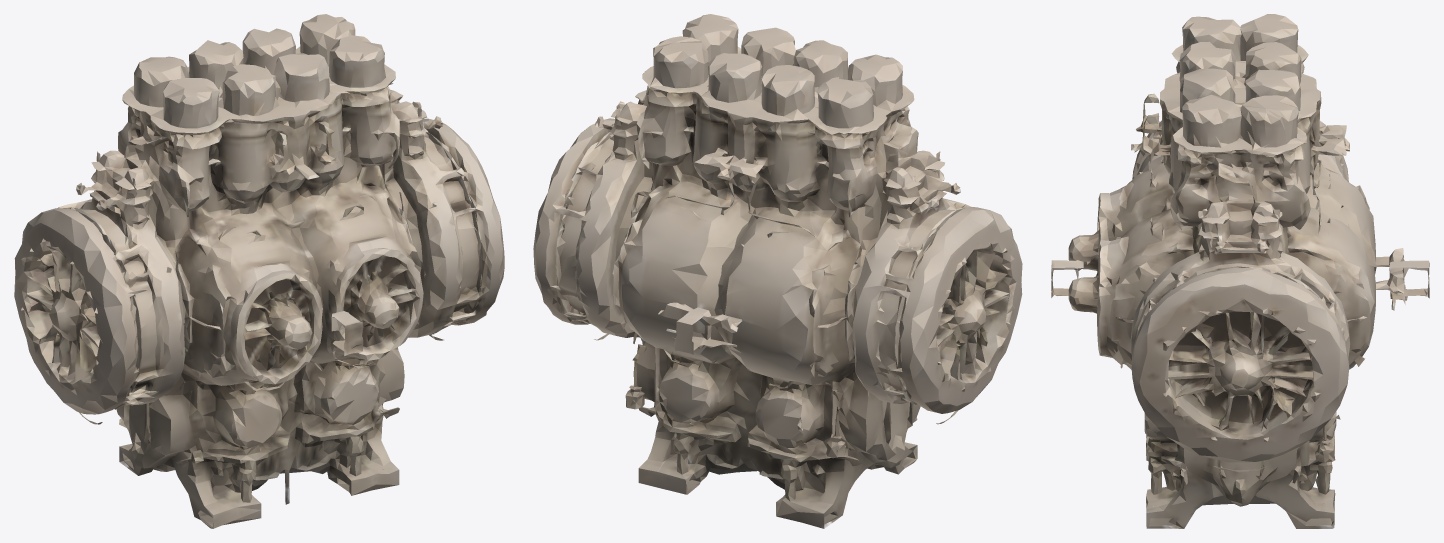
Rendered from titan_engine_main.glb.
3 views of the same model, side by side, from view 1: azimuth 30°, elevation 25°; view 2: azimuth 150°, elevation 25°; view 3: azimuth 270°, elevation 25° (orthographic).
Visible parts, largest first — view 1: titan_engine_main; view 2: titan_engine_main; view 3: titan_engine_main.
Boxes of the visible parts, x1,y1,x2,y2 form: titan_engine_main: (14,14,504,528); titan_engine_main: (533,14,1022,528); titan_engine_main: (1051,14,1429,528).
Bounding box in the file's own units: 1.89 × 1.89 × 1.51.
1 material, 1 textured.
